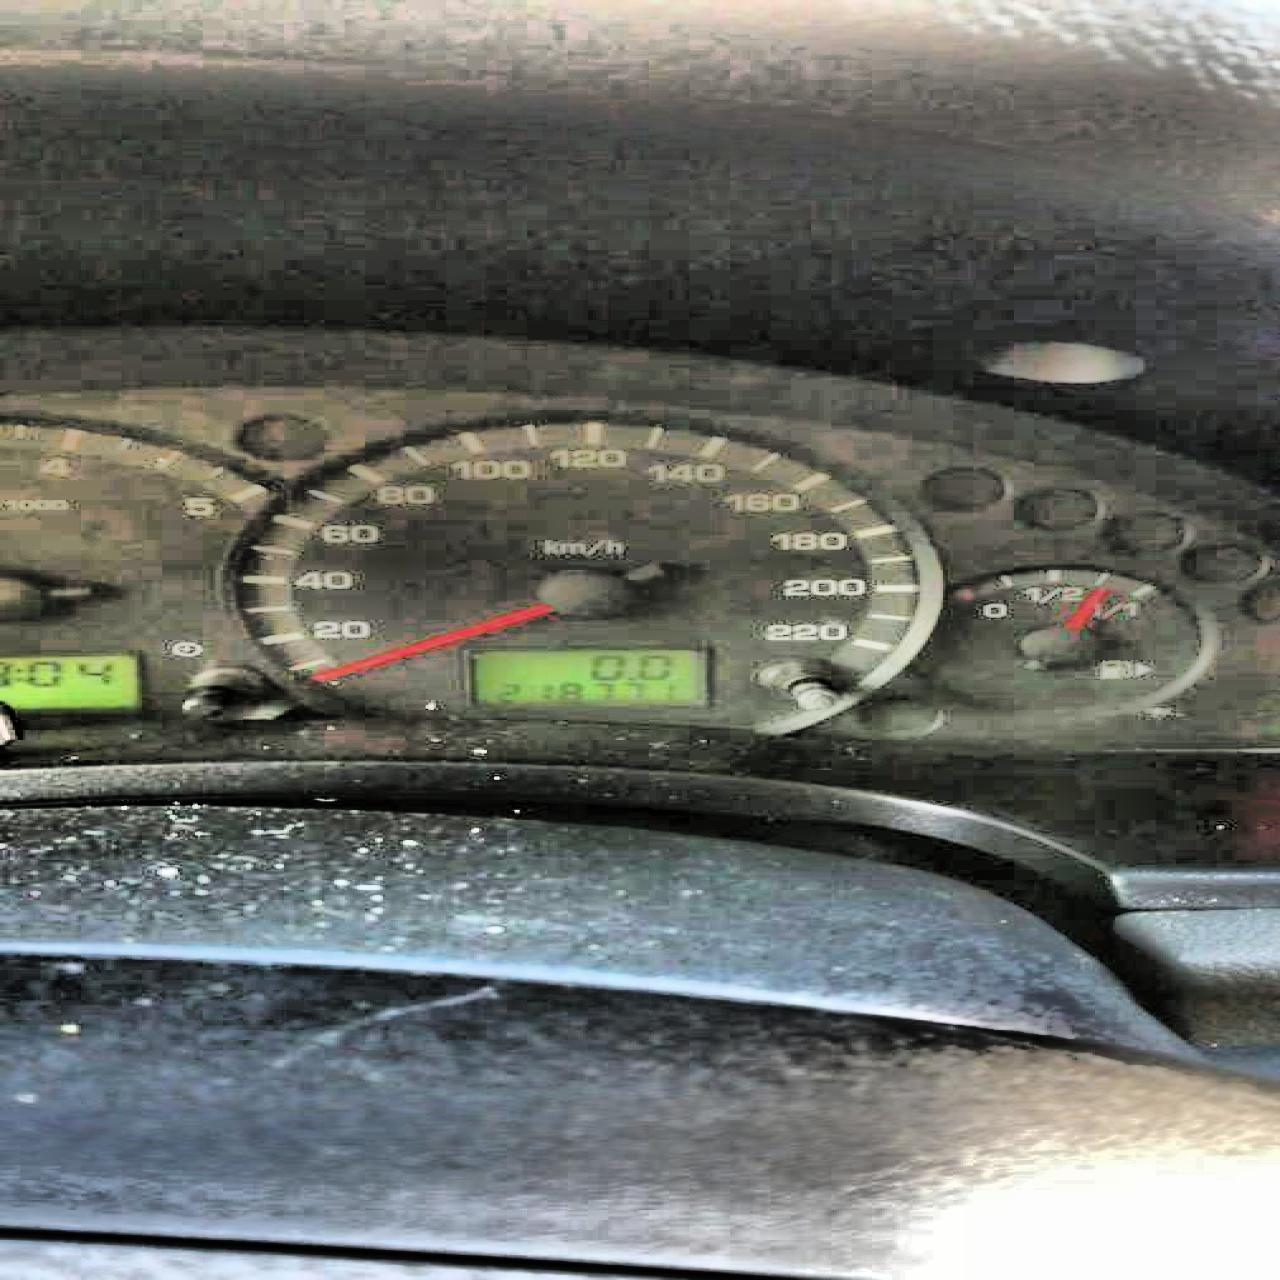-: (624, 675, 636, 680)
0: (586, 652, 624, 680), (633, 654, 672, 680)
1: (535, 681, 552, 700), (659, 682, 676, 700)
2: (491, 680, 519, 702)
7: (588, 681, 617, 699), (621, 681, 646, 699)
8: (554, 681, 583, 700)
odometer: (454, 642, 713, 708)
